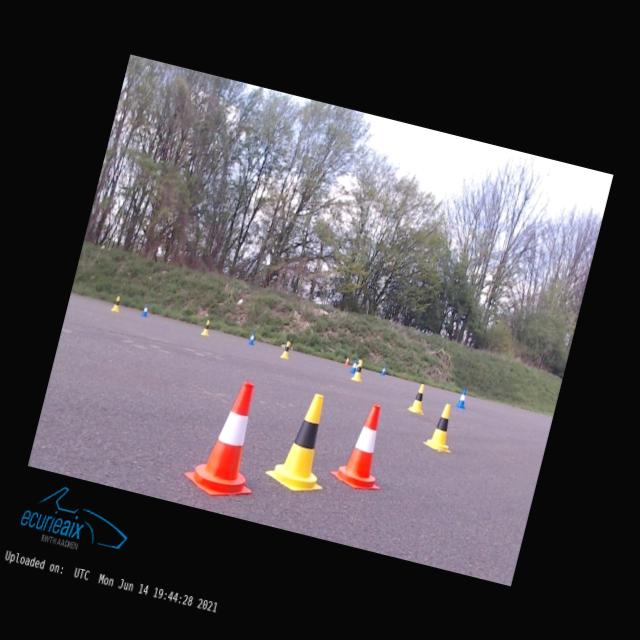blue_cone: (455, 388, 469, 408), (247, 331, 256, 345), (350, 359, 358, 374), (140, 304, 148, 316), (381, 365, 386, 375)
orange_cone: (181, 373, 277, 503), (328, 398, 398, 494), (344, 356, 350, 365)
yellow_cone: (262, 386, 344, 497), (422, 400, 462, 452), (406, 382, 430, 414), (351, 358, 365, 382), (110, 294, 122, 312), (200, 318, 212, 336), (280, 341, 292, 358)
